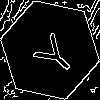Y: (25, 25, 80, 80)
